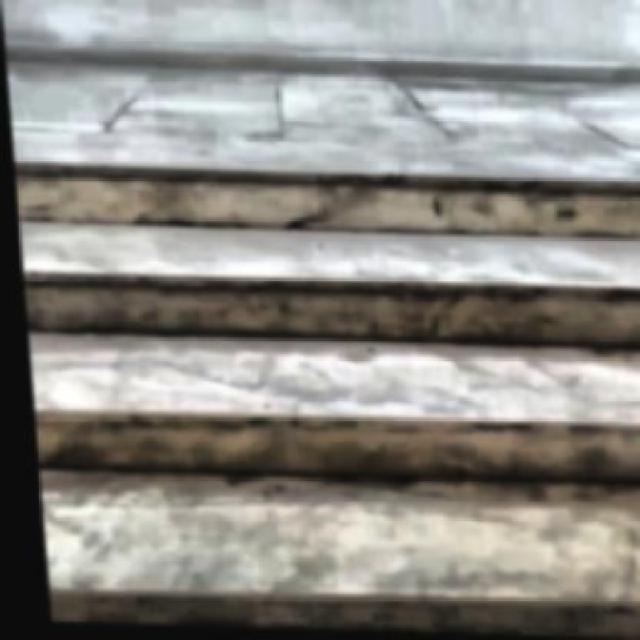stair: (12, 160, 640, 638)
